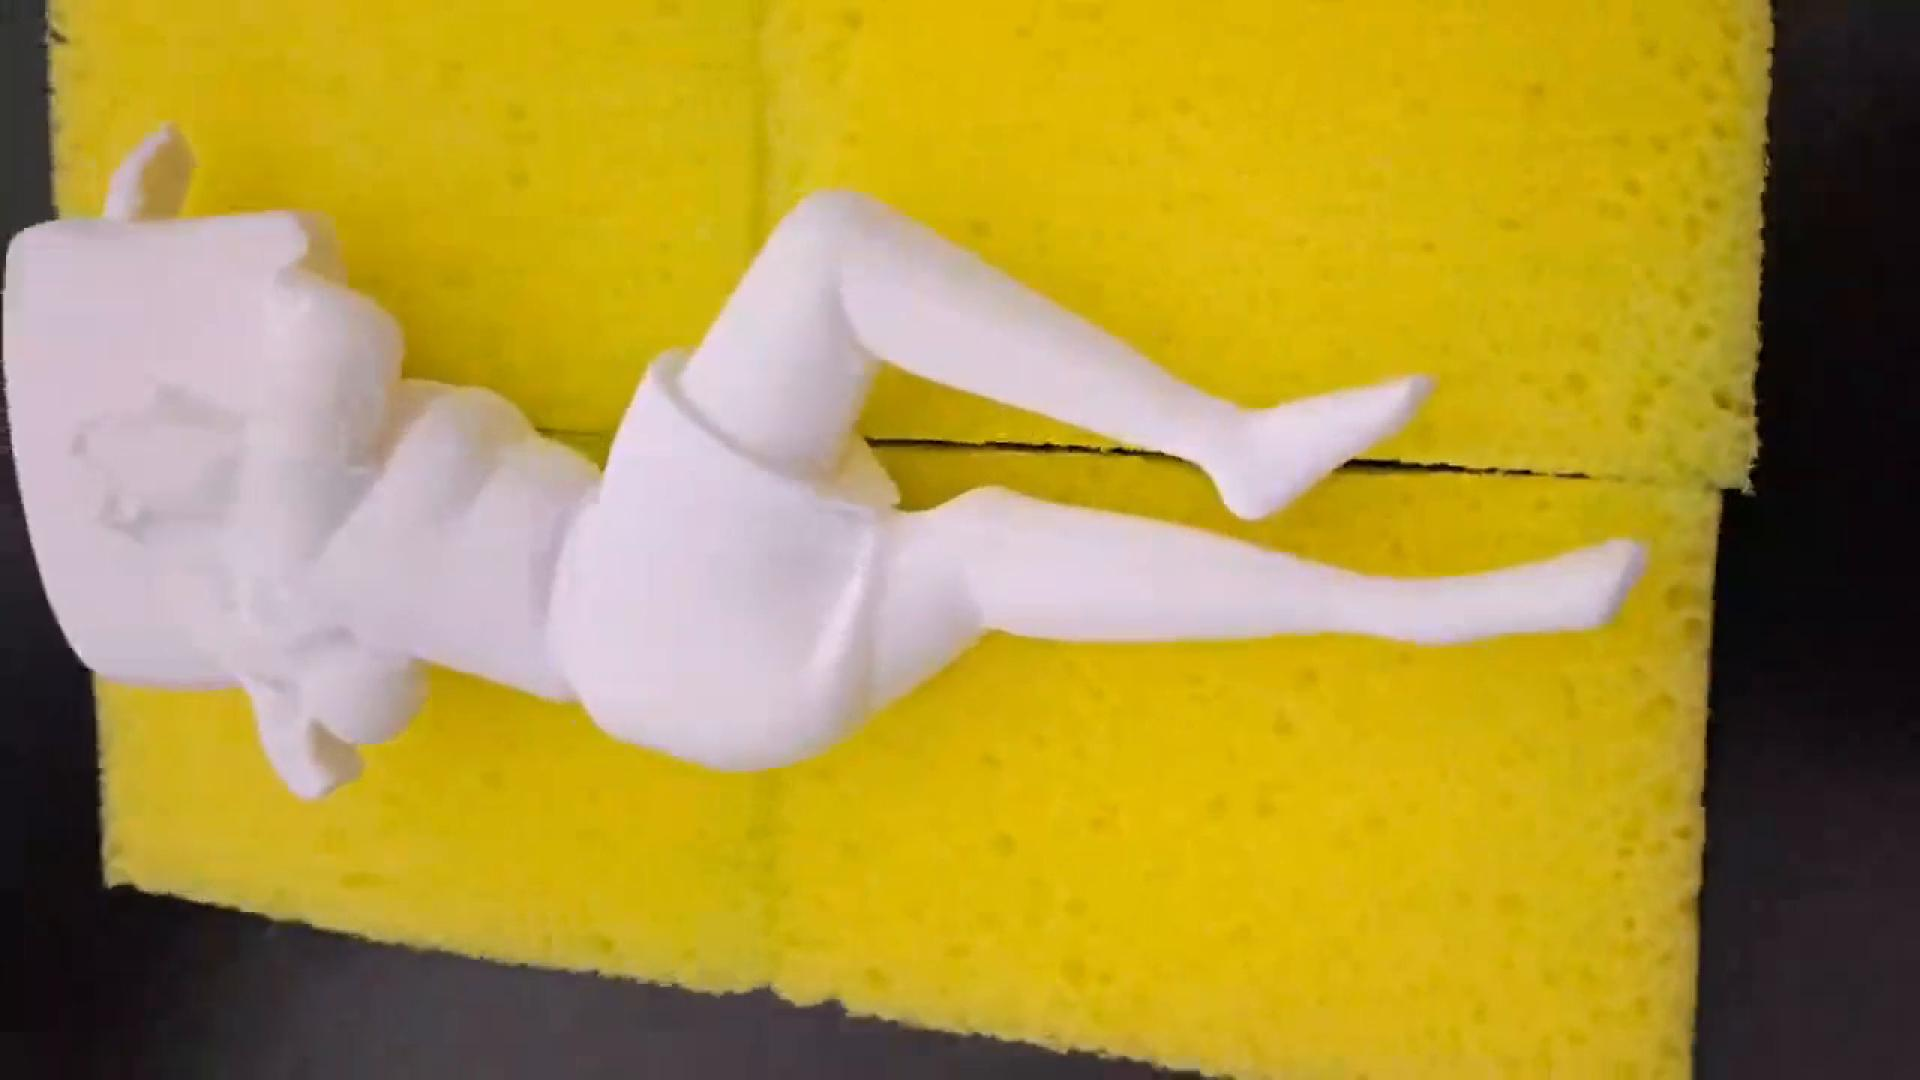Good-style: (0, 128, 1635, 807)
